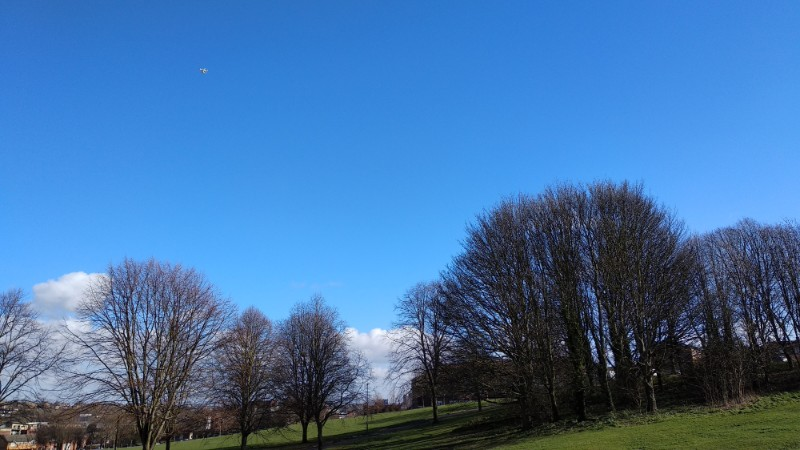drone: (197, 65, 208, 73)
